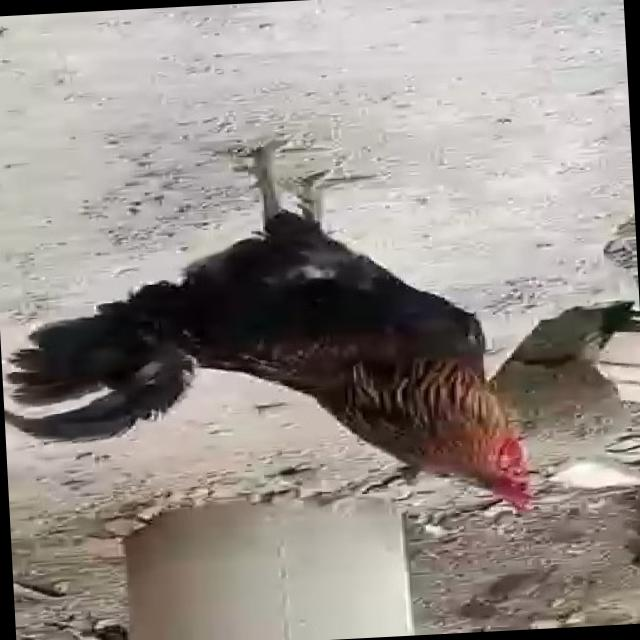walking: (0, 119, 569, 548)
